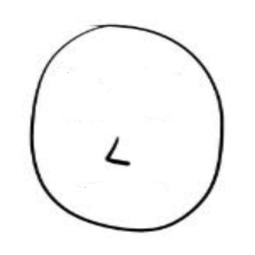pointy_nose: (93, 132, 135, 169)
